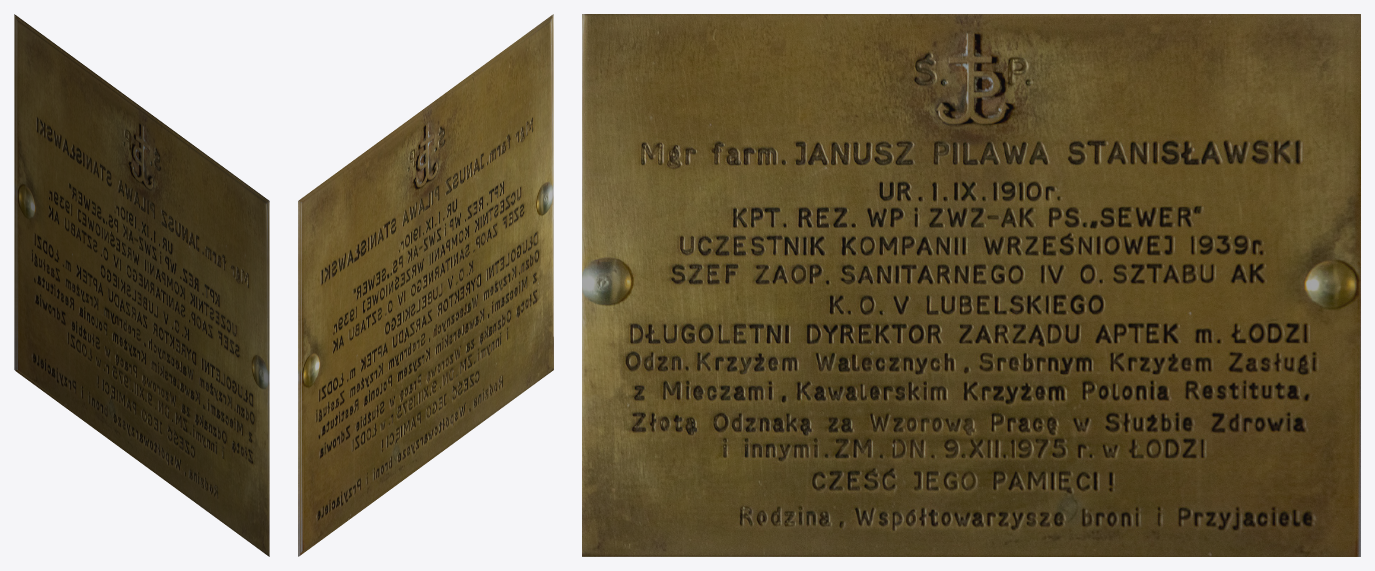
Rendered from 75. Ś.P. magister farmacji JANUSZ PILAWA STANISŁAWSKI.glb.
The picture shows the model from 3 angles, left to right: view 1: azimuth 30°, elevation 25°; view 2: azimuth 150°, elevation 25°; view 3: azimuth 270°, elevation 25°; orthographic projection. The views are drawn at different scales.
Parts seen in each view (by area): view 1: Plane; view 2: Plane; view 3: Plane.
Boxes of the visible parts, x1,y1,x2,y2 form: Plane: [14, 14, 269, 556]; Plane: [298, 14, 553, 556]; Plane: [582, 14, 1360, 556].
Size of the model in its own units: 0.0102 by 10 by 13.
1 material, 1 textured.
